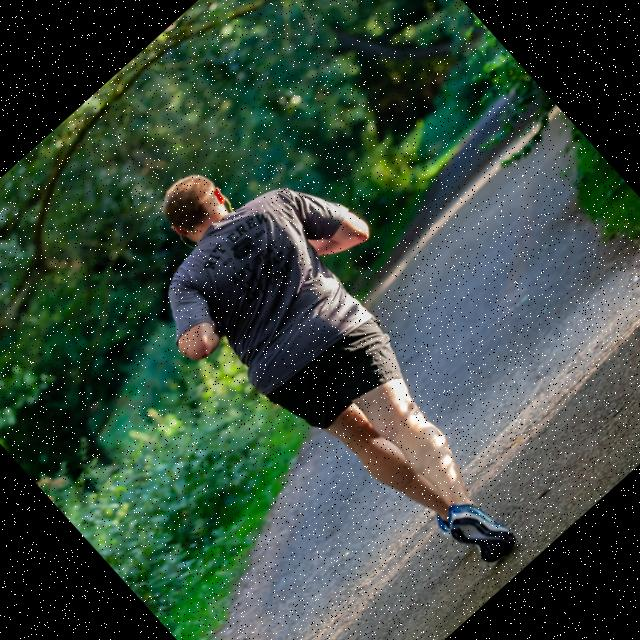Person: (94, 106, 595, 628)
